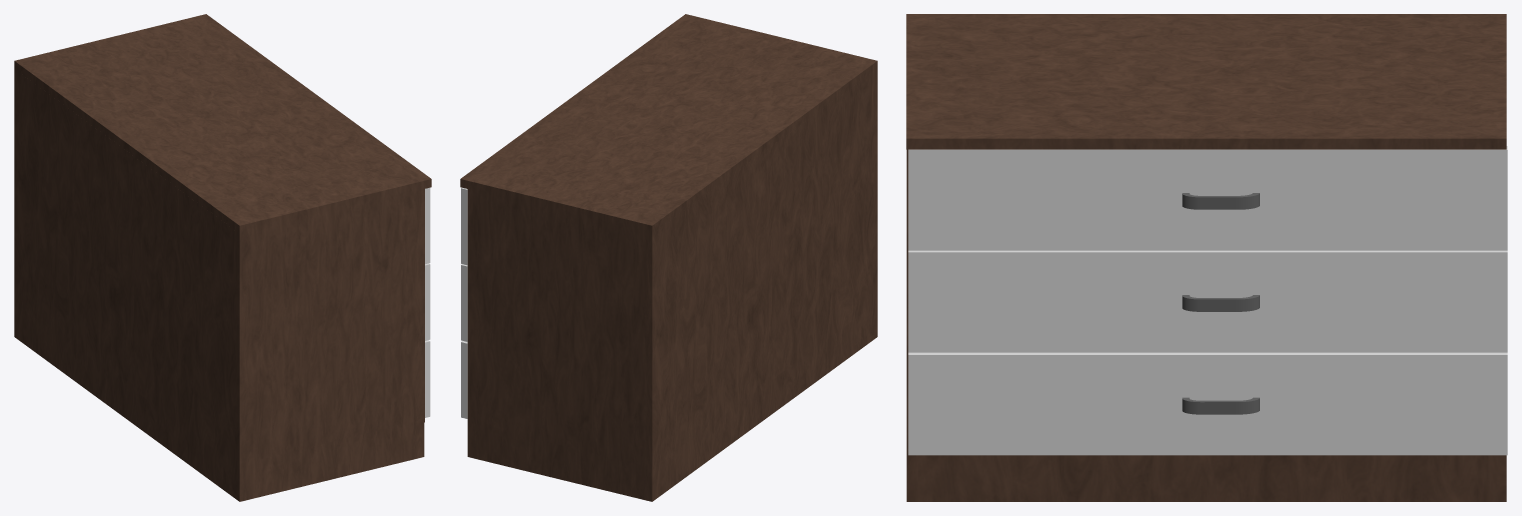
File: Shelf1.fbx
The picture shows the model from 3 angles, left to right: view 1: azimuth 30°, elevation 25°; view 2: azimuth 150°, elevation 25°; view 3: azimuth 270°, elevation 25°; orthographic projection. The views are drawn at different scales.
Parts seen in each view (by area): view 1: Cube.283, Cube.307, Cube.306; view 2: Cube.283, Cube.307, Cube.306, Cube.284; view 3: Cube.283, Cube.307, Cube.306, Cube.284.
Part boxes in pixels (x1,y1,x2,y2): Cube.283: (14, 14, 431, 501); Cube.307: (425, 340, 430, 417); Cube.306: (425, 263, 430, 340); Cube.283: (460, 14, 877, 501); Cube.307: (461, 341, 467, 418); Cube.306: (461, 264, 467, 341); Cube.284: (461, 187, 467, 264); Cube.283: (906, 14, 1506, 501); Cube.307: (908, 352, 1507, 455); Cube.306: (908, 250, 1507, 352); Cube.284: (908, 146, 1507, 250).
Bounding box in the file's own units: 0.9623 × 1.28 × 1.9.
